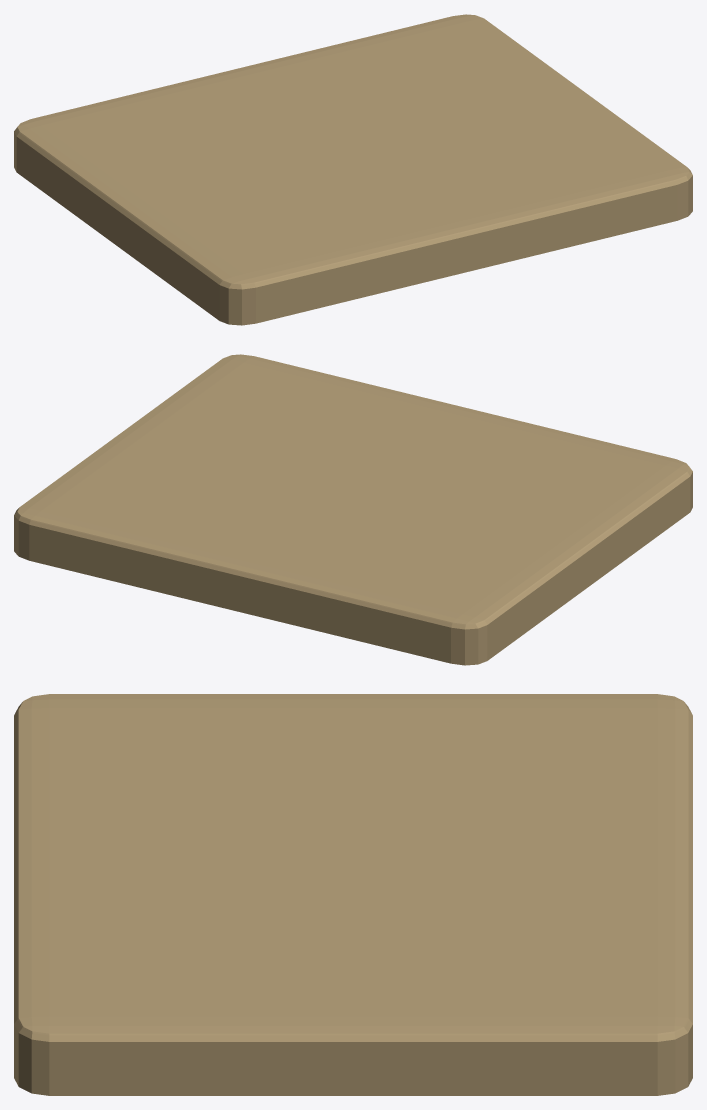
File: LP_P_Map.fbx
3 views of the same model, one above another, from view 1: azimuth 30°, elevation 25°; view 2: azimuth 150°, elevation 25°; view 3: azimuth 270°, elevation 25° (orthographic). The views are drawn at different scales.
Parts seen in each view (by area): view 1: LP_P_Map; view 2: LP_P_Map; view 3: LP_P_Map.
Part boxes in pixels (x1,y1,x2,y2): LP_P_Map: (14,14,692,325); LP_P_Map: (14,354,692,665); LP_P_Map: (14,694,692,1095).
Bounding box in the file's own units: 60 × 5 × 50.
